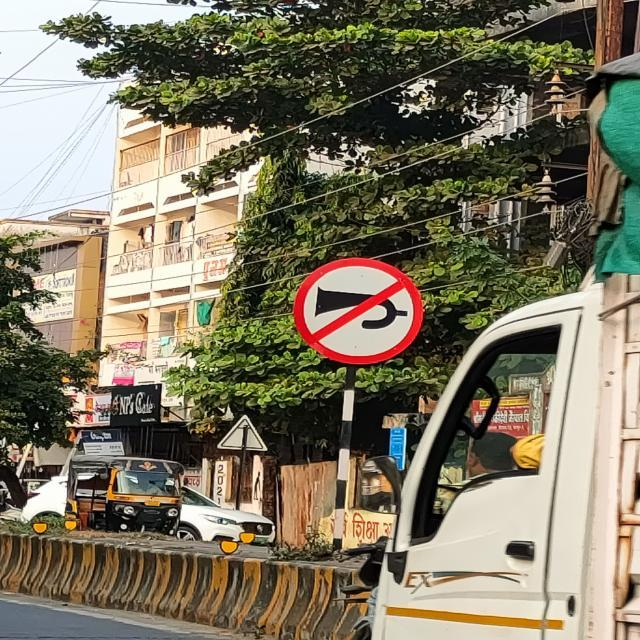horn prohibited: (289, 253, 425, 365)
